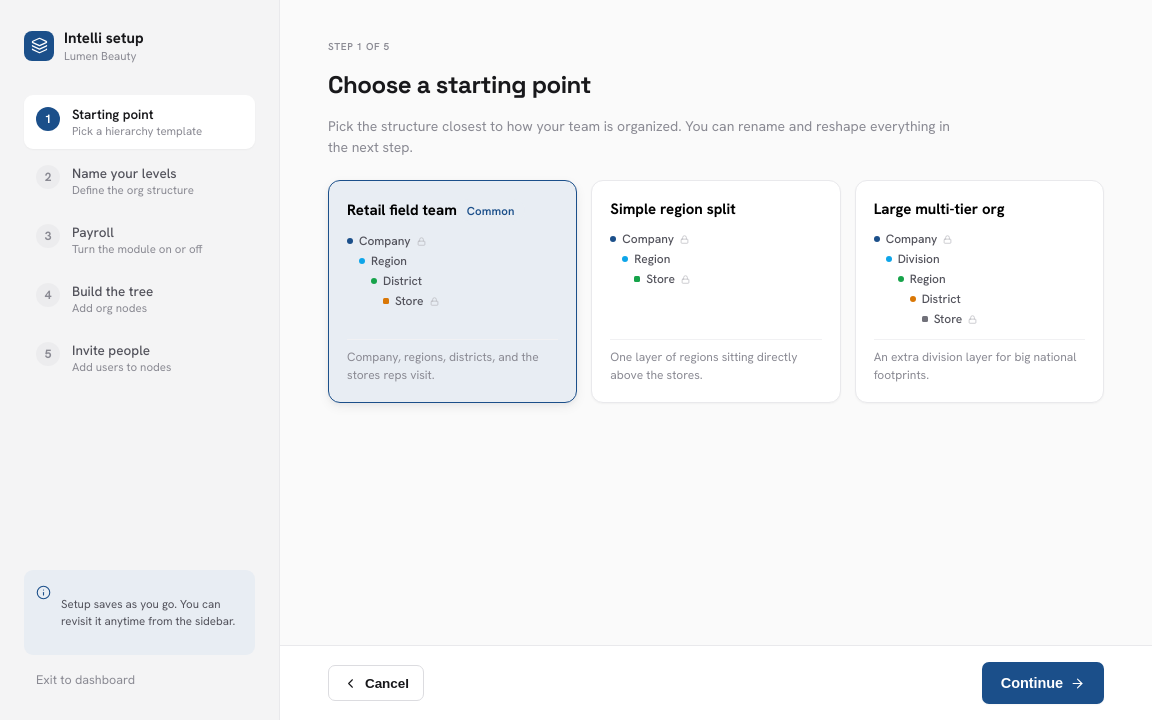
Test case: SetupWizard › renders step 1 for an admin and can advance to step 2
Expected: the heading "Choose a starting point" is shown, left=328, top=69, right=591, bottom=100
Click the button "Continue". click: (1043, 683)
box: left=982, top=662, right=1104, bottom=704
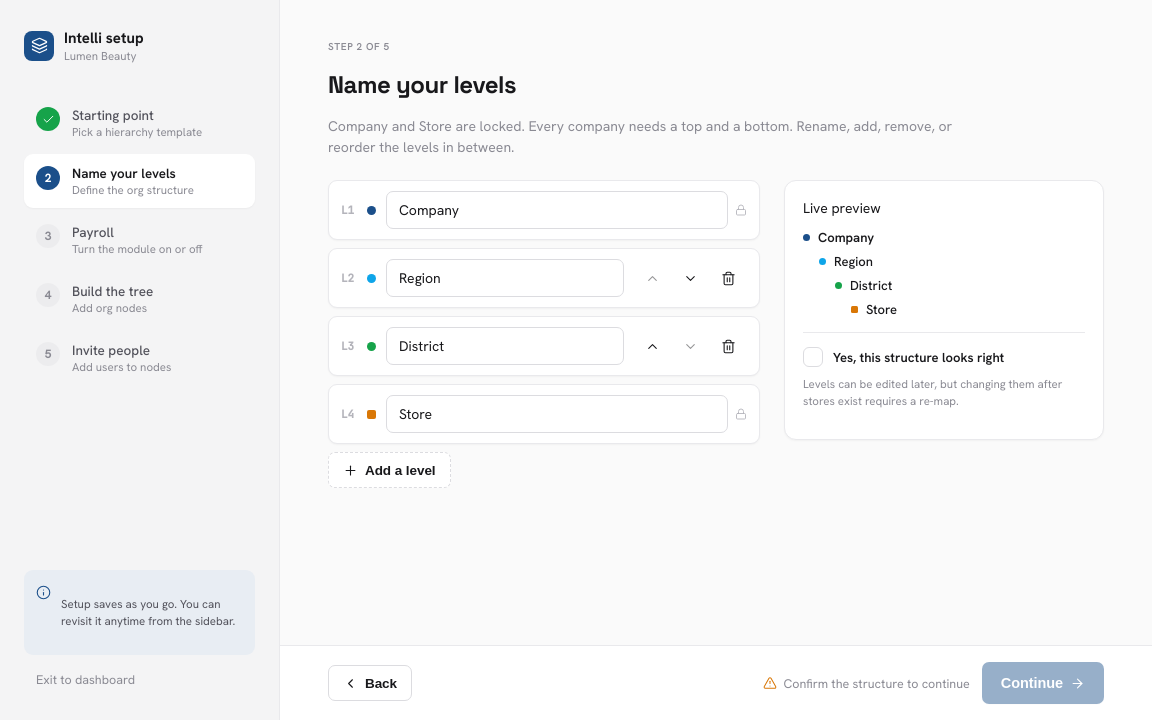
Now the heading "Name your levels" is shown, box left=328, top=69, right=516, bottom=100
